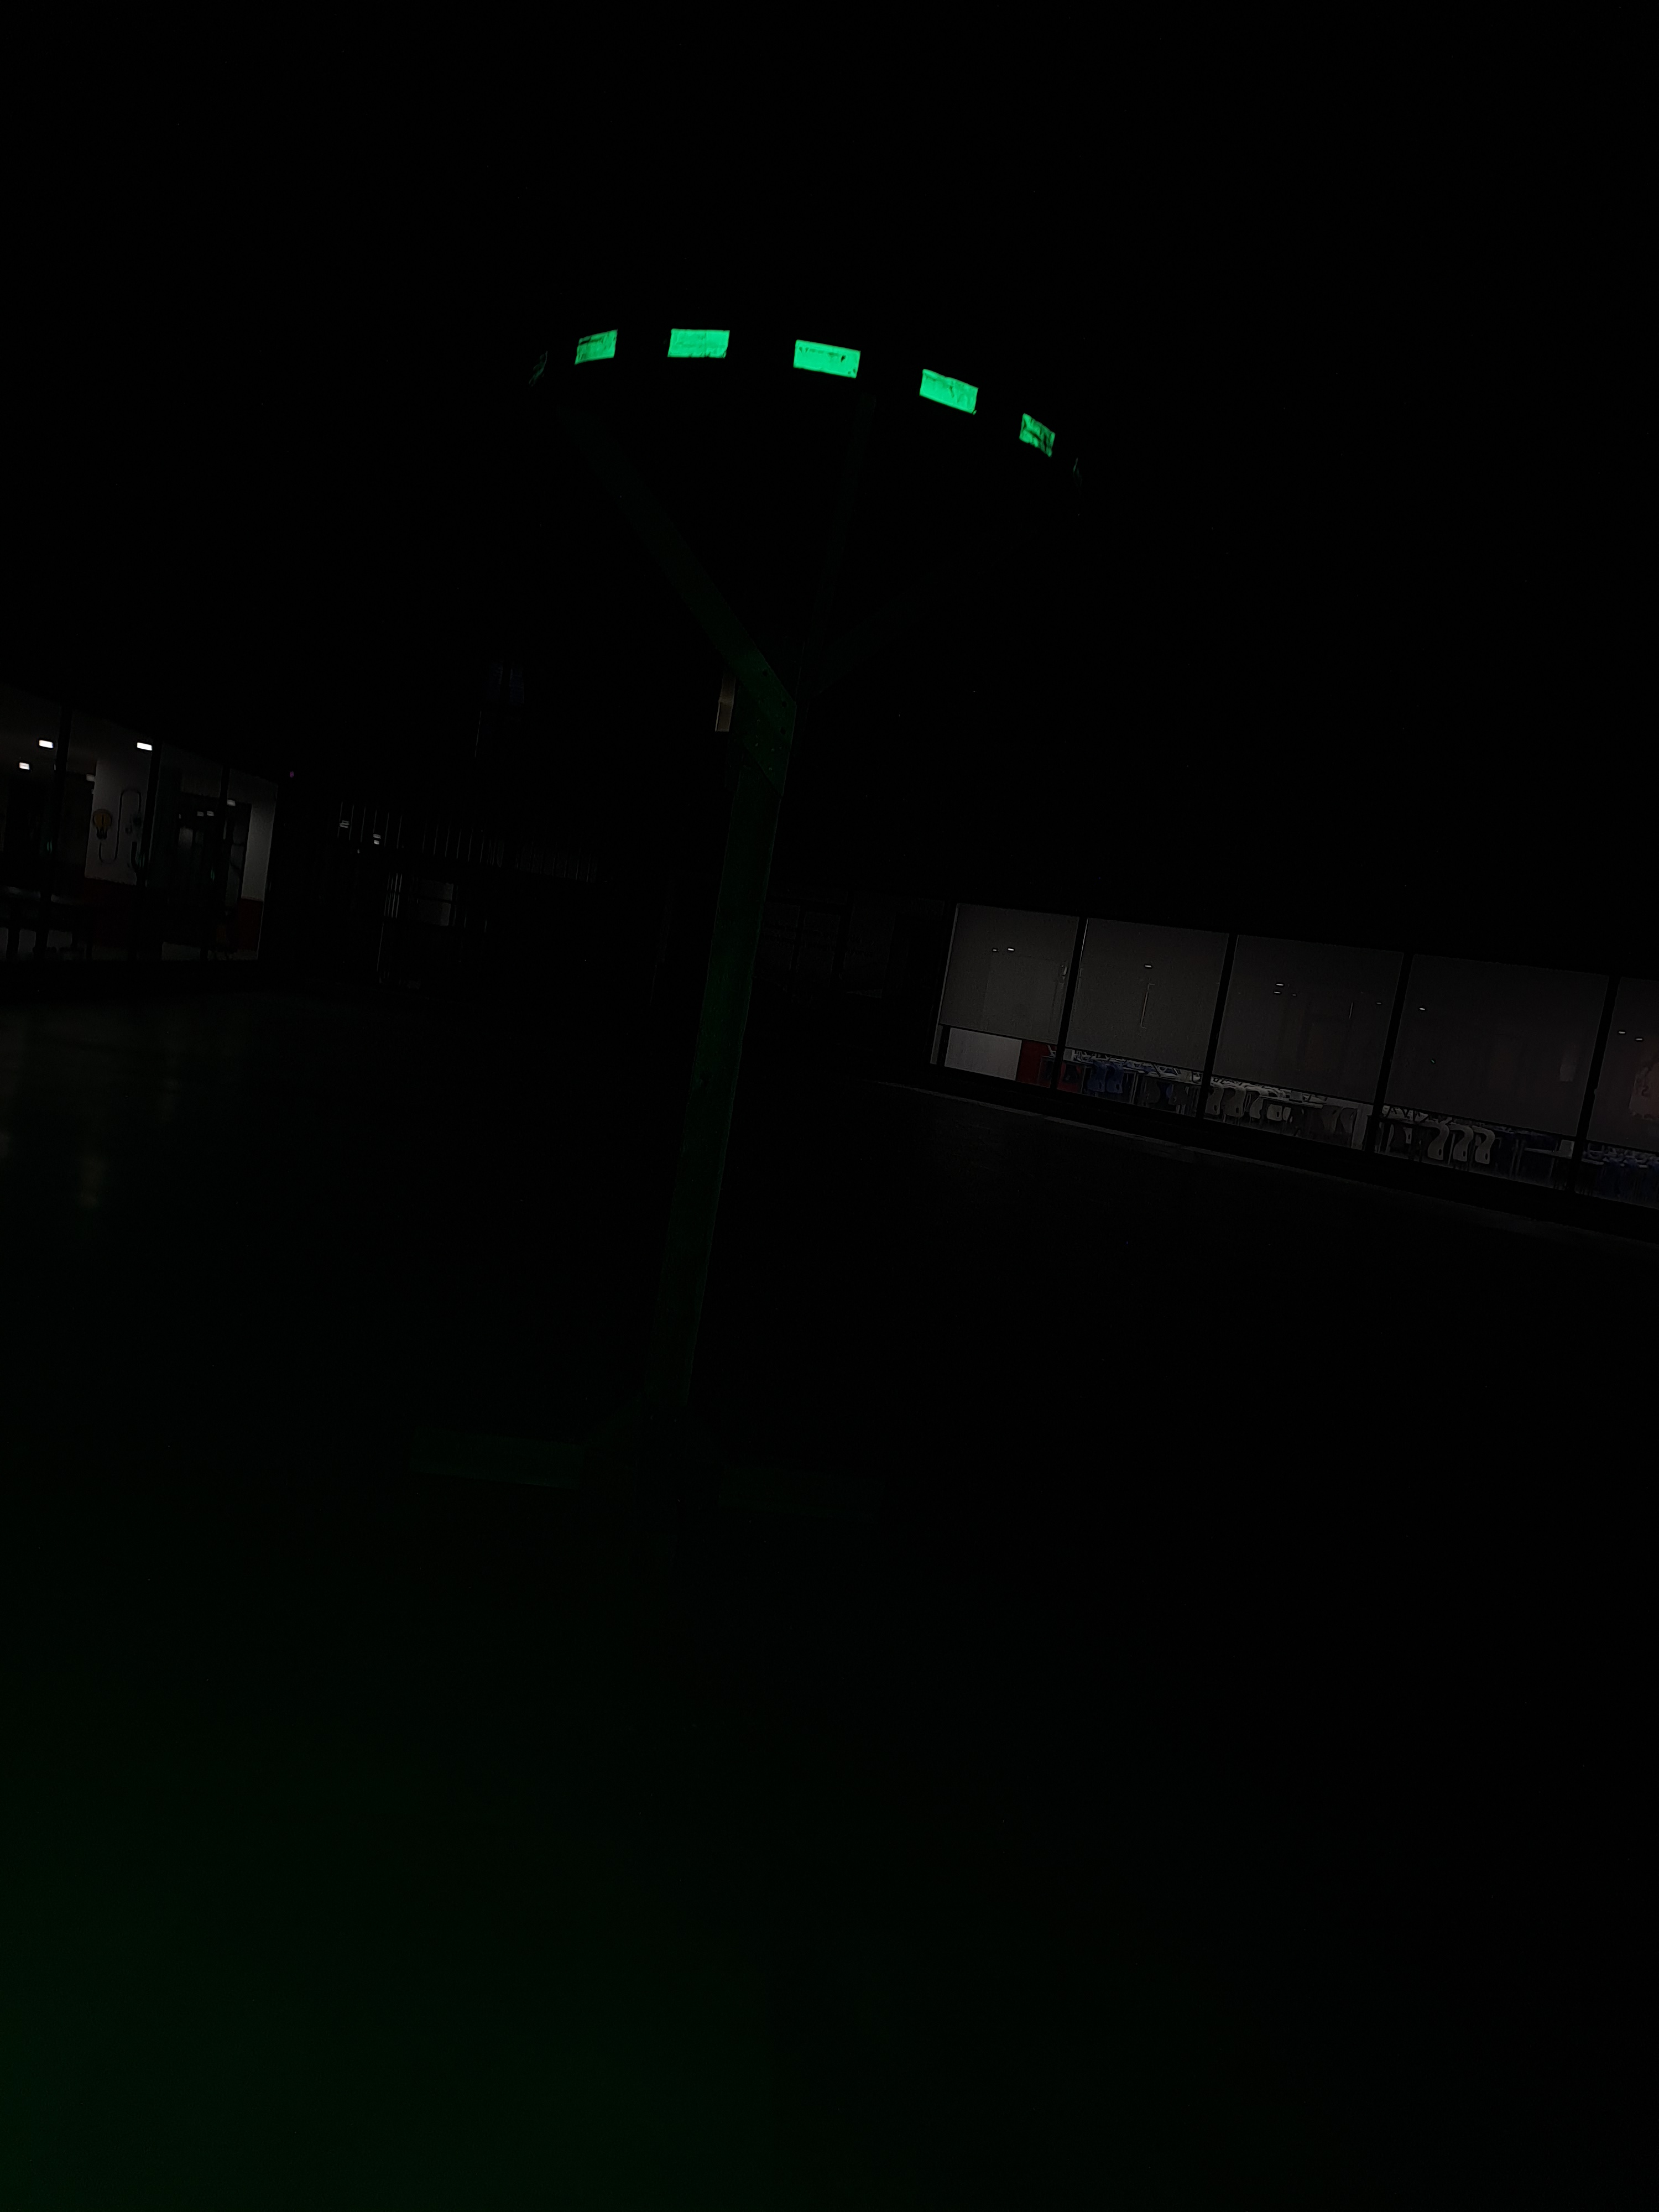hoop: (575, 308, 1063, 462)
